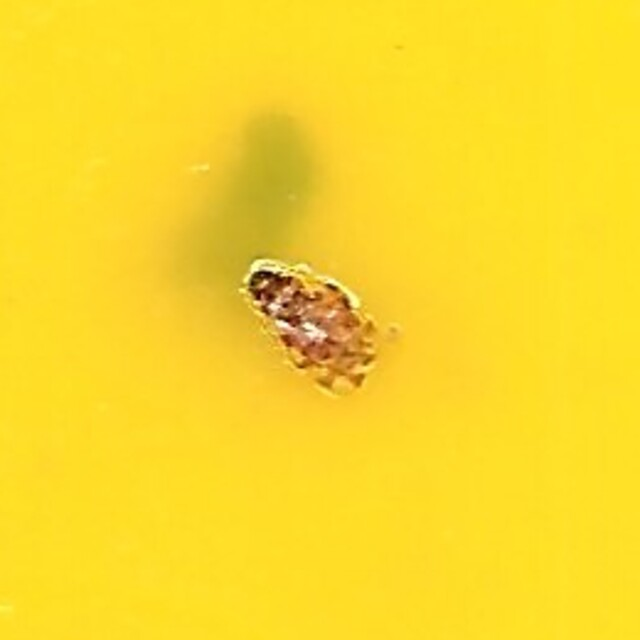Hemiptera: (246, 242, 394, 398)
